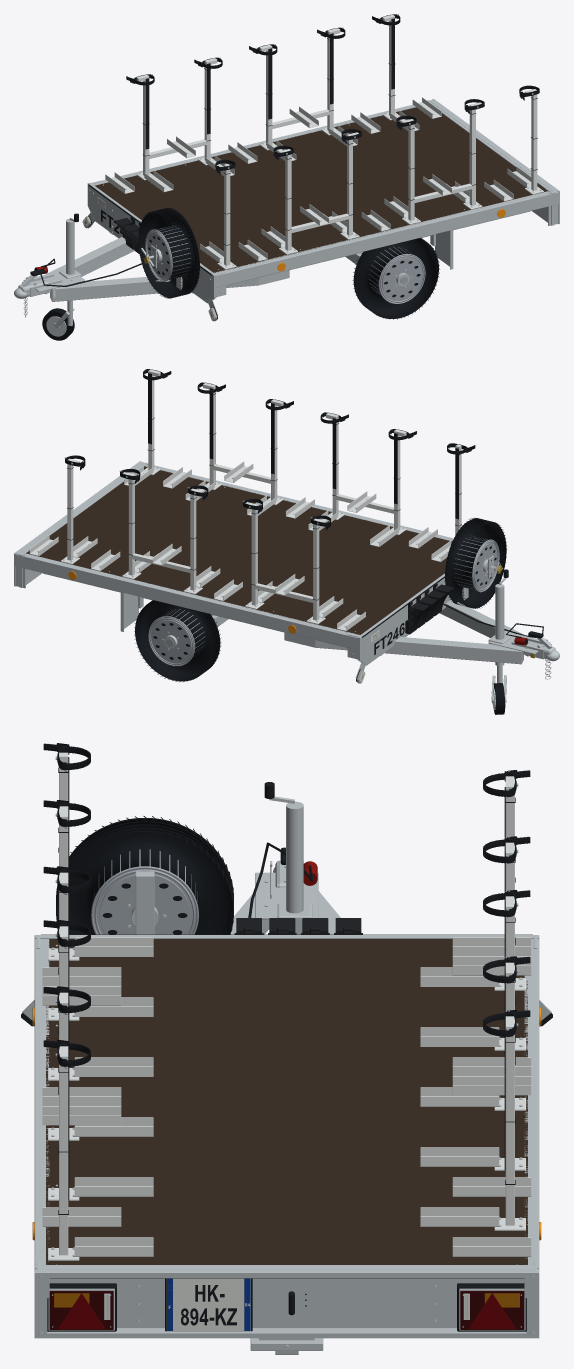
Rendered from trailer-11.glb.
The picture shows the model from 3 angles, top to bottom: view 1: azimuth 30°, elevation 25°; view 2: azimuth 150°, elevation 25°; view 3: azimuth 270°, elevation 25°; orthographic projection. The views are drawn at different scales.
Parts seen in each view (by area): view 1: Contreplaque phenolique brun, Acier galvanise, Supports laques blanc casse, Caoutchouc pneus, Sangles et garnitures noires, Jantes acier argente, Plastique noir cales; view 2: Contreplaque phenolique brun, Acier galvanise, Supports laques blanc casse, Sangles et garnitures noires, Caoutchouc pneus, Jantes acier argente, Plastique noir cales; view 3: Contreplaque phenolique brun, Acier galvanise, Supports laques blanc casse, Sangles et garnitures noires, Caoutchouc pneus, Jantes acier argente, Cabochons blancs, Arriere - fond optique rouge, Arriere - triangle rouge, Plastique noir cales, Arriere - clignotant ambre.
Boxes of the visible parts, x1,y1,x2,y2 form: Contreplaque phenolique brun: (95,107,547,272); Acier galvanise: (14,99,559,336); Supports laques blanc casse: (105,15,543,269); Caoutchouc pneus: (42,208,438,340); Sangles et garnitures noires: (30,14,539,320); Jantes acier argente: (133,14,539,303); Plastique noir cales: (113,216,140,253); Contreplaque phenolique brun: (26,466,452,634); Acier galvanise: (14,461,559,709); Supports laques blanc casse: (29,369,461,631); Sangles et garnitures noires: (65,369,543,683); Caoutchouc pneus: (135,518,506,714); Jantes acier argente: (65,373,499,666); Plastique noir cales: (405,582,454,634); Contreplaque phenolique brun: (46,939,527,1278); Acier galvanise: (23,796,550,1354); Supports laques blanc casse: (42,752,531,1260); Sangles et garnitures noires: (21,743,552,1331); Caoutchouc pneus: (56,817,232,934); Jantes acier argente: (55,756,518,1068); Cabochons blancs: (104,1278,469,1331); Arriere - fond optique rouge: (49,1291,524,1329); Arriere - triangle rouge: (58,1293,515,1329); Plastique noir cales: (234,918,362,934); Arriere - clignotant ambre: (54,1285,519,1307).
Size of the model in its own units: 3.53 by 1.37 by 1.69.
